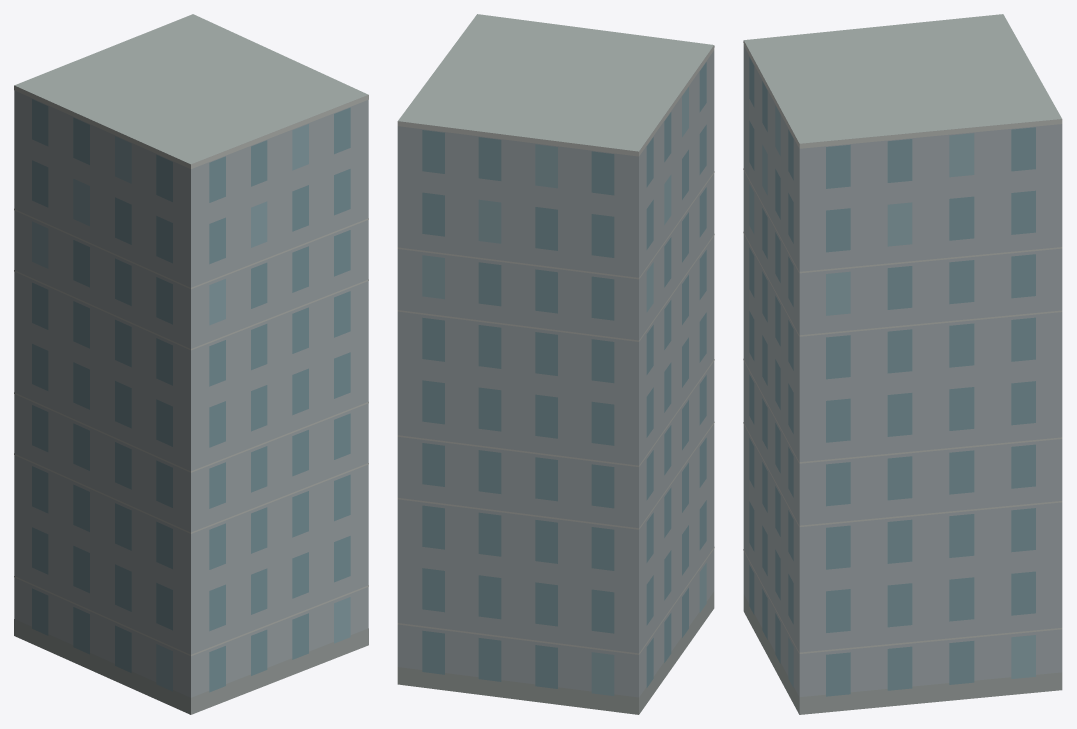
Rendered from survey-upis-32908483.glb.
The picture shows the model from 3 angles, left to right: view 1: azimuth 30°, elevation 25°; view 2: azimuth 150°, elevation 25°; view 3: azimuth 270°, elevation 25°; orthographic projection. The views are drawn at different scales.
Visible parts, largest first — view 1: survey-upis-32908483.tmp; view 2: survey-upis-32908483.tmp; view 3: survey-upis-32908483.tmp.
Boxes of the visible parts, box(x1,y1,x2,y2) form: survey-upis-32908483.tmp: box(14, 14, 368, 714); survey-upis-32908483.tmp: box(397, 14, 714, 714); survey-upis-32908483.tmp: box(743, 14, 1062, 714).
Size of the model in its own units: 13.42 by 27.5 by 13.93.
